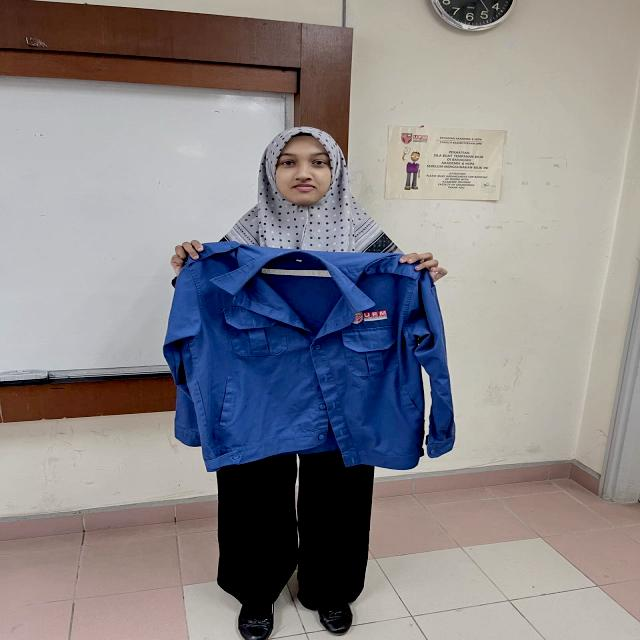person_without_labcoat: (164, 126, 455, 640)
